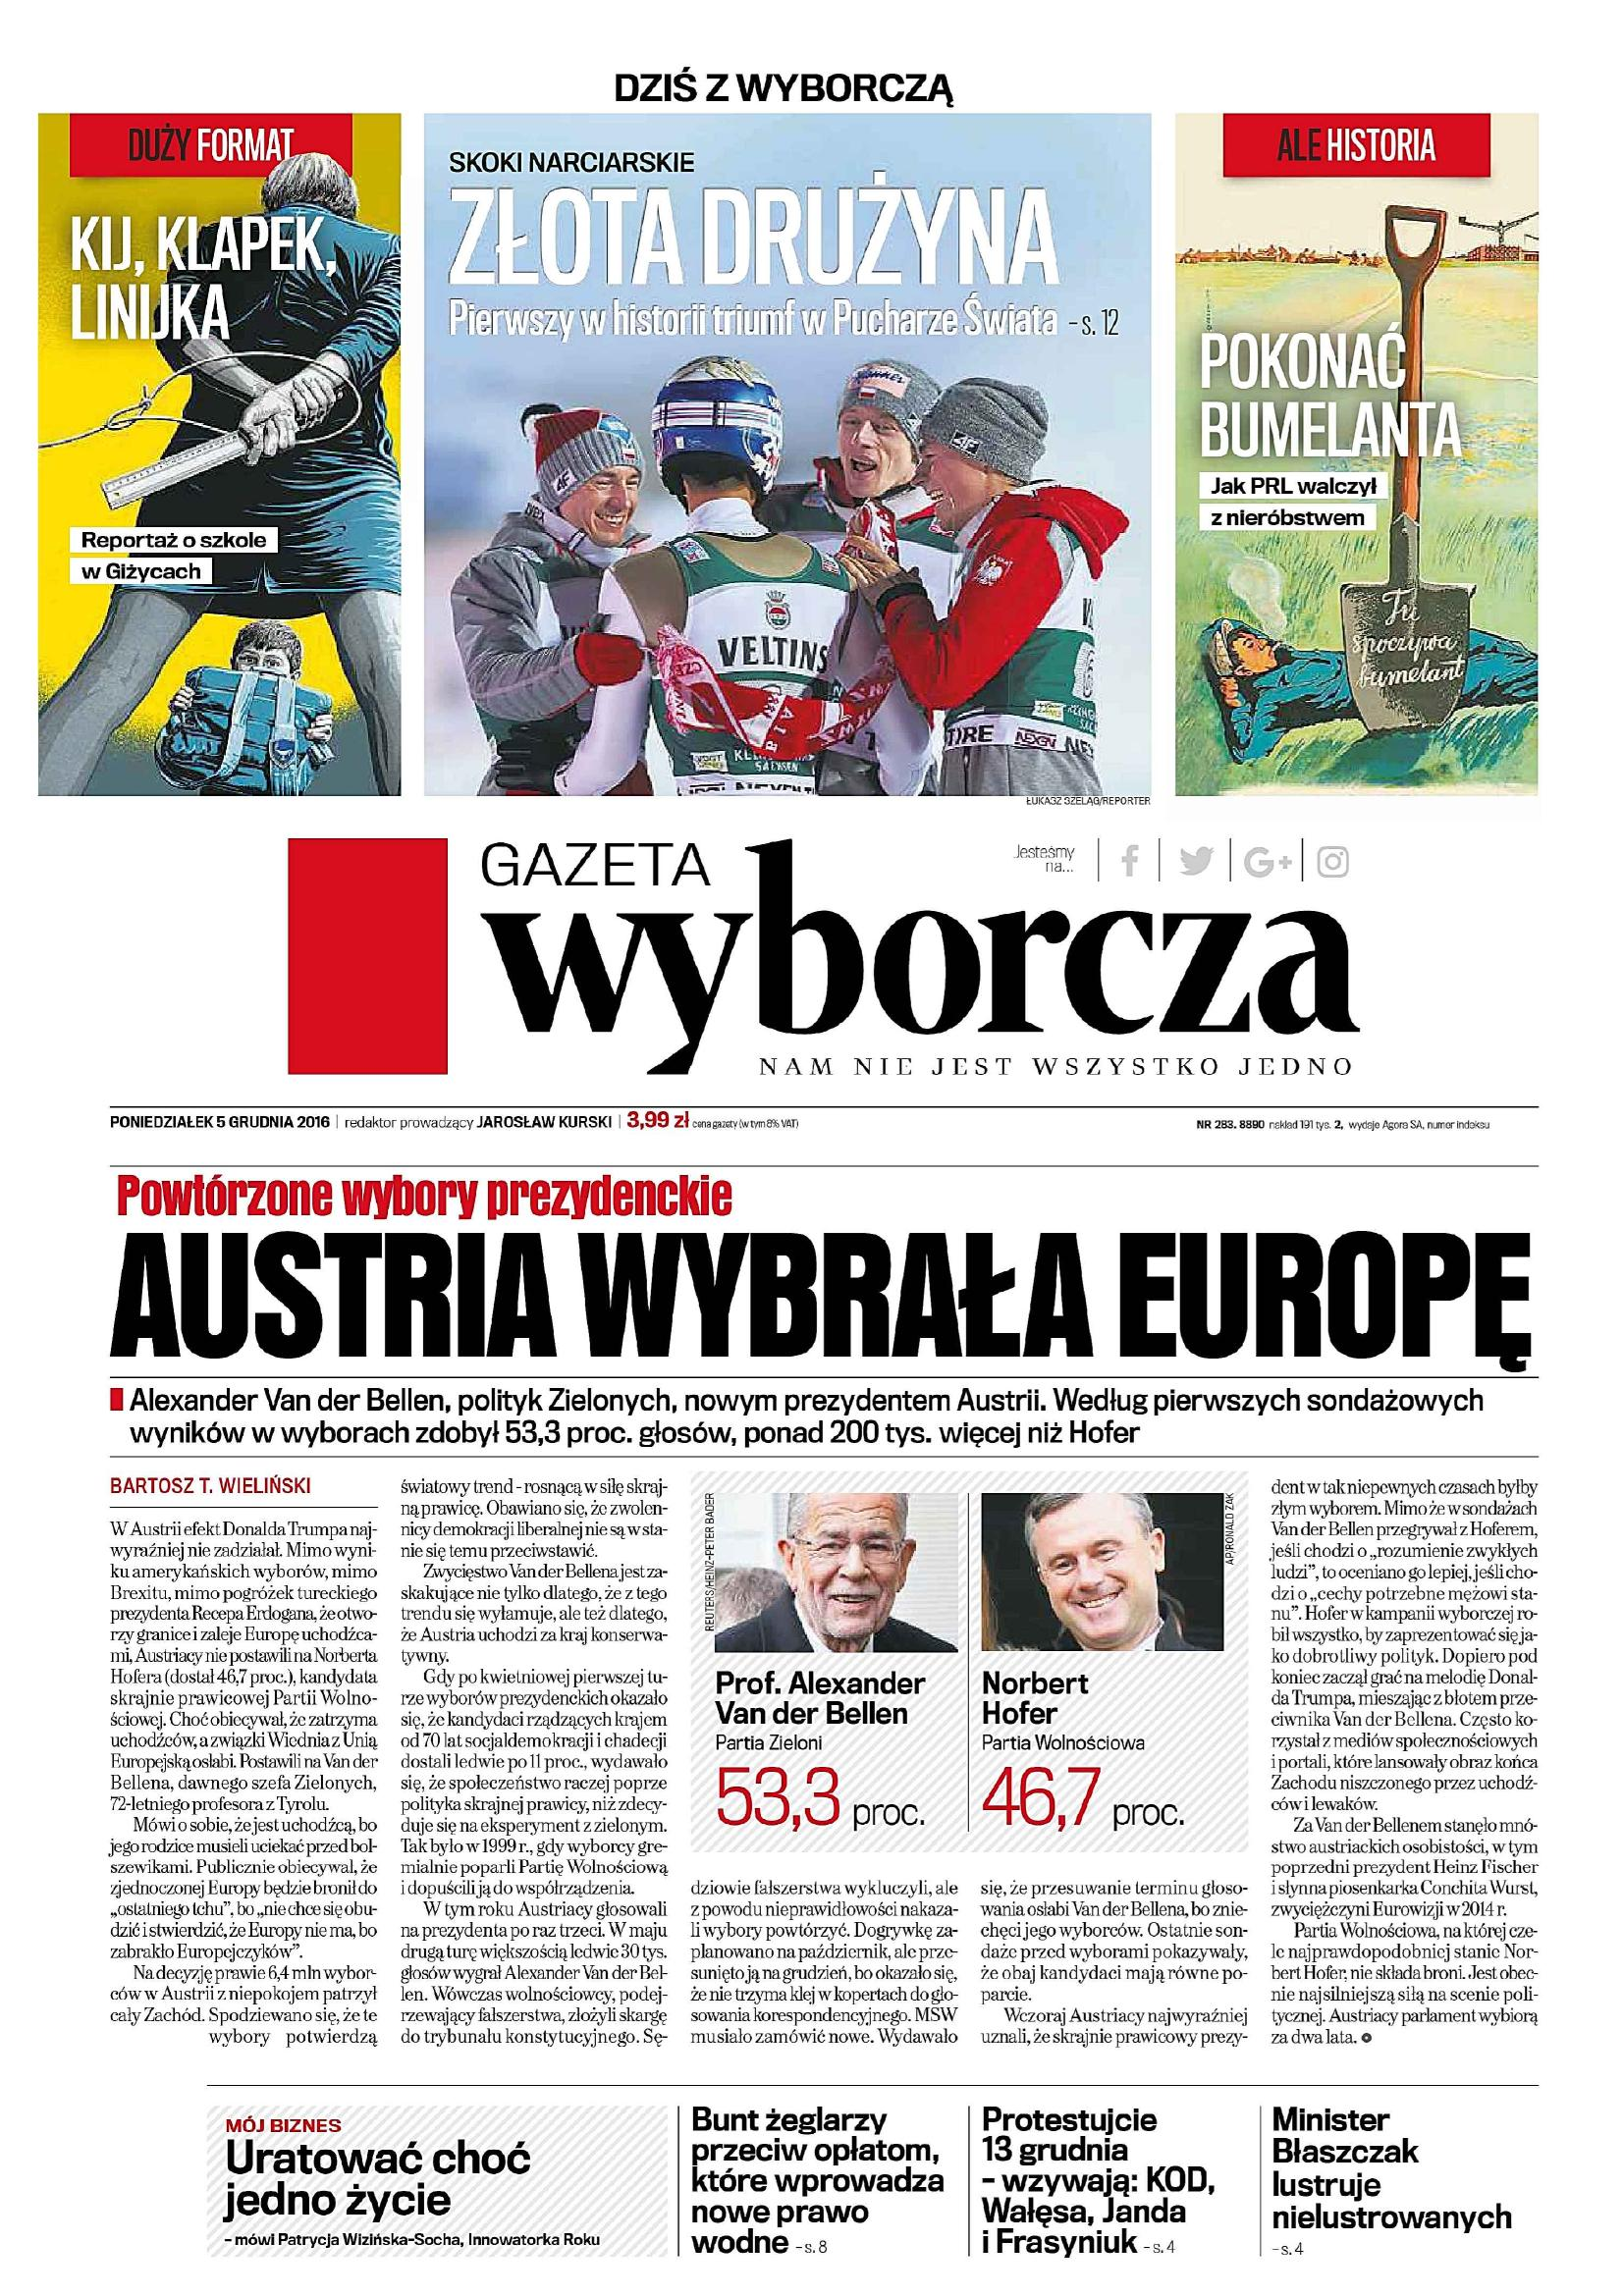article: (97, 1153, 1556, 2066)
